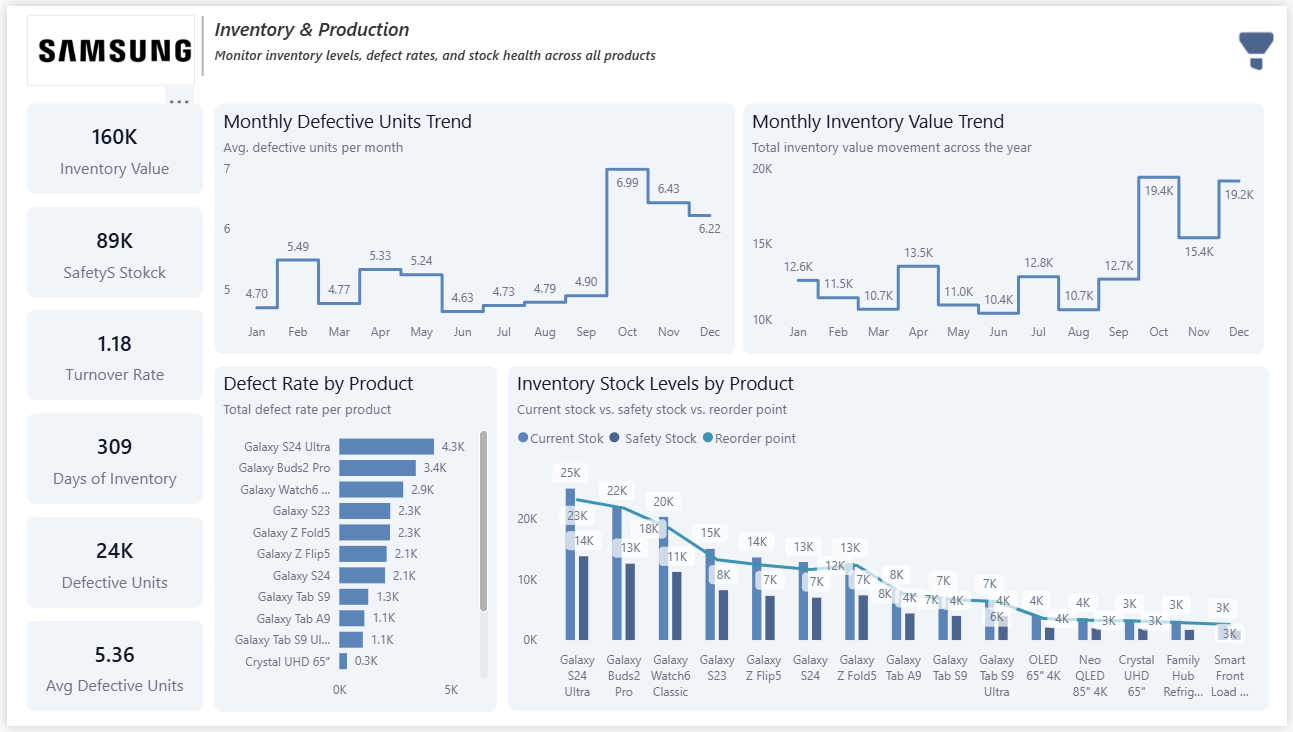

Layout of this report page (visuals, bound fields, positions):
{"tool":"powerbi","page":{"name":"Inventory","canvas":[1280,720],"ordinal":3},"visuals":[{"type":"shape","title":"Inventory & Production","box":[207.3,10.3,462.5,61.5],"z":0},{"type":"shape","box":[171.2,10,48.8,60],"z":1000},{"type":"image","box":[20,8.8,168.8,71.2],"z":2000},{"type":"card","fields":{"Values":["Measure Table.Days_of_inventory"]},"box":[20,408,176,90],"z":3000},{"type":"card","fields":{"Values":["Sum(fact_production.defective_units)"]},"box":[20,511.5,176,90],"z":4000},{"type":"card","fields":{"Values":["Avg(fact_production.defective_units)"]},"box":[20,615,176,90],"z":5000},{"type":"card","fields":{"Values":["Measure Table.Safety_stokck"]},"box":[20,201,176,90],"z":6000},{"type":"card","fields":{"Values":["Measure Table.Inventory_Value"]},"box":[20,97.5,176,90],"z":7000},{"type":"clusteredBarChart","title":"Defect Rate by Product","fields":{"Y":["Measure Table.Defact_Rate"],"Category":["dim_product.product_name"]},"box":[207.3,360,282.5,346.3],"z":8000},{"type":"card","fields":{"Values":["Measure Table.Turnover Reat"]},"box":[20,303.8,176.2,90],"z":9000},{"type":"lineClusteredColumnComboChart","title":"Inventory Stock Levels by Product","fields":{"Category":["dim_product.product_name"],"Y":["Measure Table.Inventory_Value","Sum(fact_inventory.safety_stock_level)"],"Y2":["Measure Table.Reorder point"]},"box":[501.3,360,761,345.2],"z":10000},{"type":"lineChart","title":"Monthly Defective Units Trend","fields":{"Y":["Avg(fact_production.defective_units)"],"Category":["dim_date.Month_short"]},"box":[207.3,98,521,250.6],"z":11000},{"type":"lineChart","title":"Monthly Inventory Value Trend","fields":{"Category":["dim_date.Month_short"],"Y":["Measure Table.Inventory_Value"]},"box":[735.9,98,521,250.6],"z":12000},{"type":"actionButton","title":"Button-open","box":[1218.8,8.8,61.2,71.2],"z":13000}]}

Visuals, with their boxes in screenshot pixels (x1, y1, x2, y2), scaled from the page's 1280x720 canvas onto the 1293x732 screenshot:
"Inventory & Production" shape: [left=209, top=10, right=677, bottom=73]
shape: [left=173, top=10, right=222, bottom=71]
image: [left=20, top=9, right=191, bottom=81]
card - Measure Table.Days_of_inventory: [left=20, top=415, right=198, bottom=506]
card - Sum(fact_production.defective_units): [left=20, top=520, right=198, bottom=612]
card - Avg(fact_production.defective_units): [left=20, top=625, right=198, bottom=717]
card - Measure Table.Safety_stokck: [left=20, top=204, right=198, bottom=296]
card - Measure Table.Inventory_Value: [left=20, top=99, right=198, bottom=191]
"Defect Rate by Product" clusteredBarChart: [left=209, top=366, right=495, bottom=718]
card - Measure Table.Turnover Reat: [left=20, top=309, right=198, bottom=400]
"Inventory Stock Levels by Product" lineClusteredColumnComboChart: [left=506, top=366, right=1275, bottom=717]
"Monthly Defective Units Trend" lineChart: [left=209, top=100, right=736, bottom=354]
"Monthly Inventory Value Trend" lineChart: [left=743, top=100, right=1270, bottom=354]
"Button-open" actionButton: [left=1231, top=9, right=1292, bottom=81]
